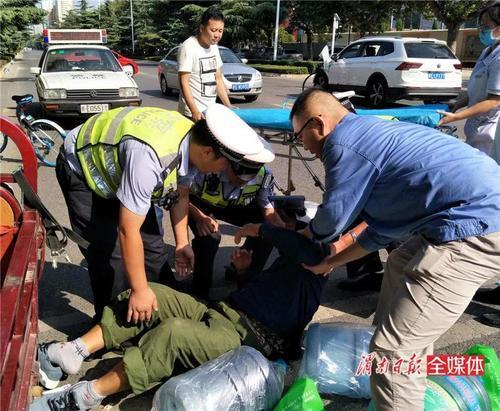Fall-Detected: (17, 208, 331, 411)
